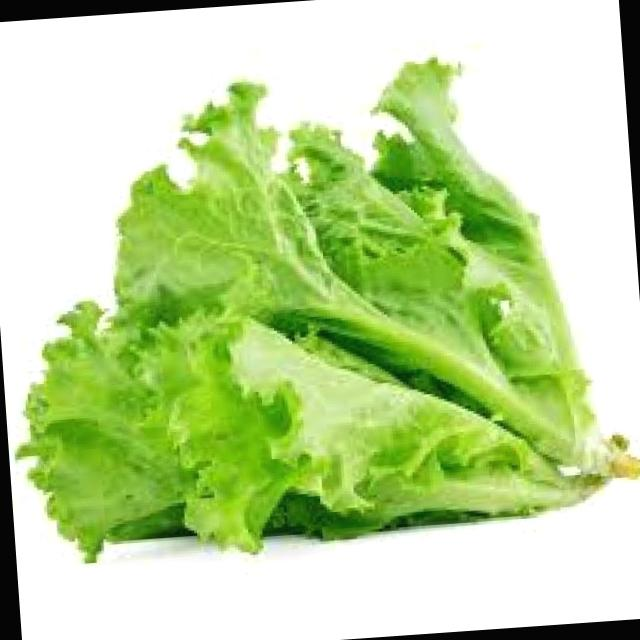Lettuce-Ready-to-Harvest: (19, 59, 602, 560)
